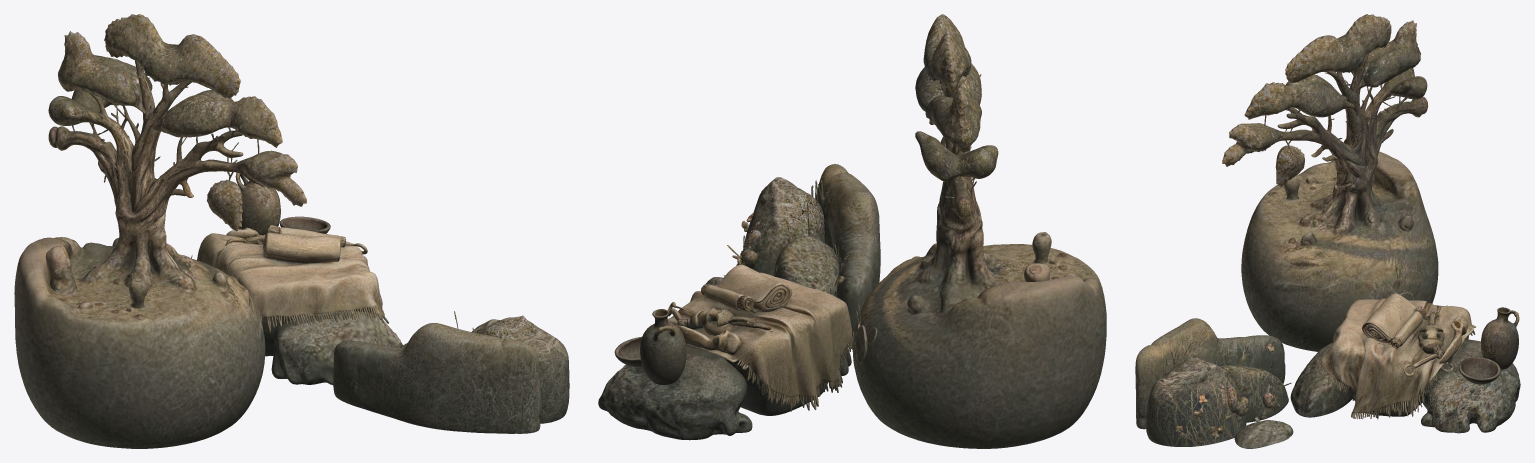
Rendered from sabbath-olive-tree.glb.
3 views of the same model, side by side, from view 1: azimuth 30°, elevation 25°; view 2: azimuth 150°, elevation 25°; view 3: azimuth 270°, elevation 25° (orthographic). The views are drawn at different scales.
Visible parts, largest first — view 1: tripo_node_c101851a-47ce-47e5-876b-fe17649e8df7; view 2: tripo_node_c101851a-47ce-47e5-876b-fe17649e8df7; view 3: tripo_node_c101851a-47ce-47e5-876b-fe17649e8df7.
Part boxes in pixels (x1,y1,x2,y2): tripo_node_c101851a-47ce-47e5-876b-fe17649e8df7: [14, 14, 569, 448]; tripo_node_c101851a-47ce-47e5-876b-fe17649e8df7: [598, 14, 1106, 448]; tripo_node_c101851a-47ce-47e5-876b-fe17649e8df7: [1135, 14, 1520, 448].
Size of the model in its own units: 0.9666 by 0.7844 by 0.8796.
Materials: 1 (1 with a texture image).
